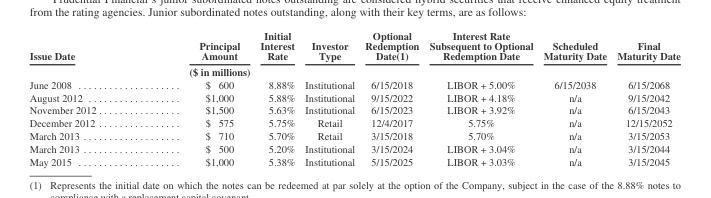table: (28, 28, 679, 167)
table column: (28, 28, 142, 167), (423, 28, 537, 167), (142, 28, 254, 167), (537, 28, 611, 167), (611, 28, 679, 167), (359, 28, 423, 167), (299, 28, 359, 167), (254, 28, 299, 167)
table column header: (28, 28, 679, 77)
table row: (28, 28, 679, 77), (28, 77, 679, 90), (28, 90, 679, 103), (28, 103, 679, 116), (28, 116, 679, 129), (28, 129, 679, 142), (28, 142, 679, 155), (28, 155, 679, 167)
